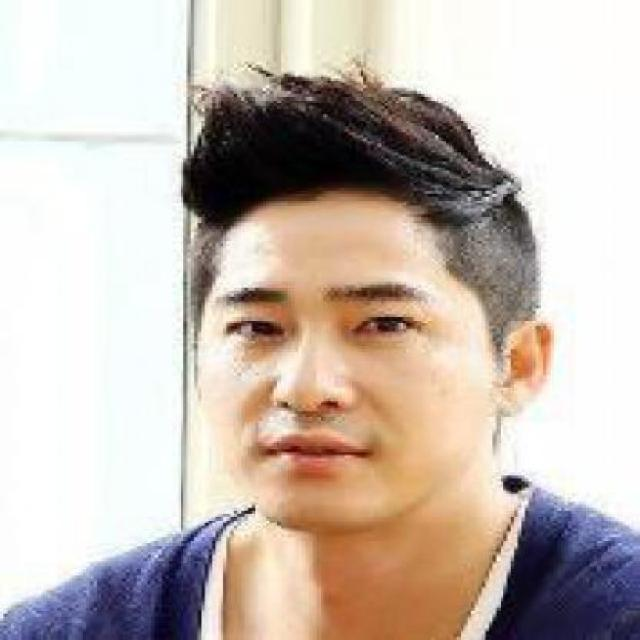closed-mouth: (260, 429, 372, 478)
